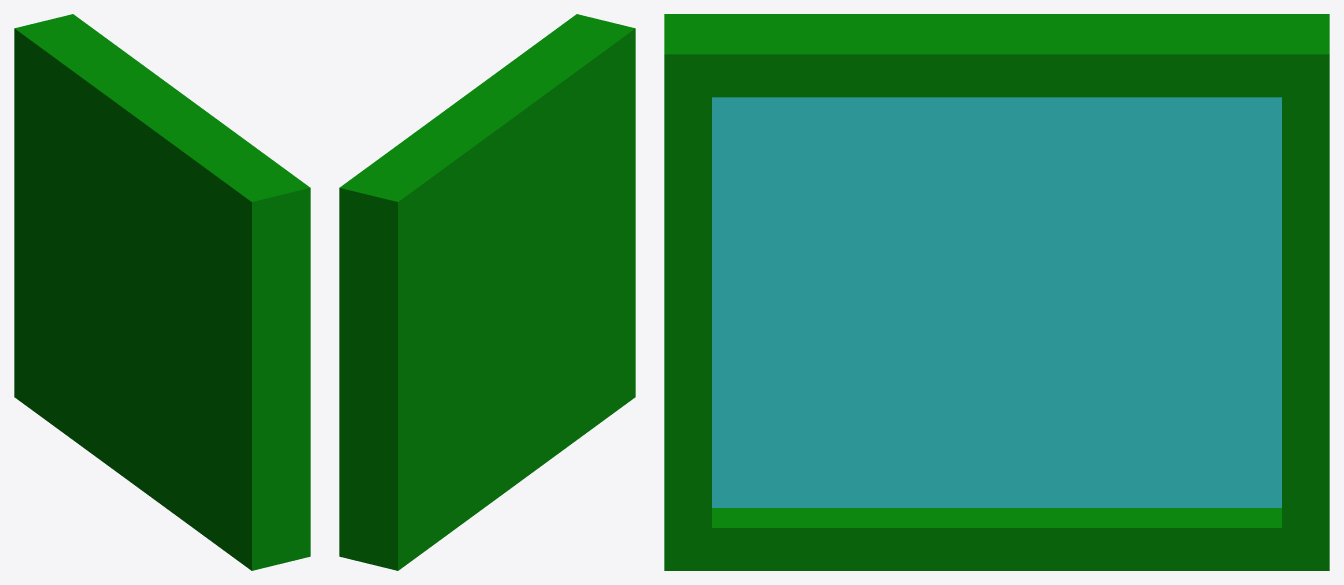
The model's file is window.fbx.
3 renders of one model, left to right at view 1: azimuth 30°, elevation 25°; view 2: azimuth 150°, elevation 25°; view 3: azimuth 270°, elevation 25°, orthographic. The views are drawn at different scales.
Visible parts, largest first — view 1: 1.003; view 2: 1.003; view 3: 1.003.
Boxes of the visible parts, x1,y1,x2,y2 form: 1.003: (14, 14, 310, 570); 1.003: (339, 14, 635, 570); 1.003: (664, 14, 1329, 570).
Bounding box in the file's own units: 0.2 × 1.2 × 1.4.
